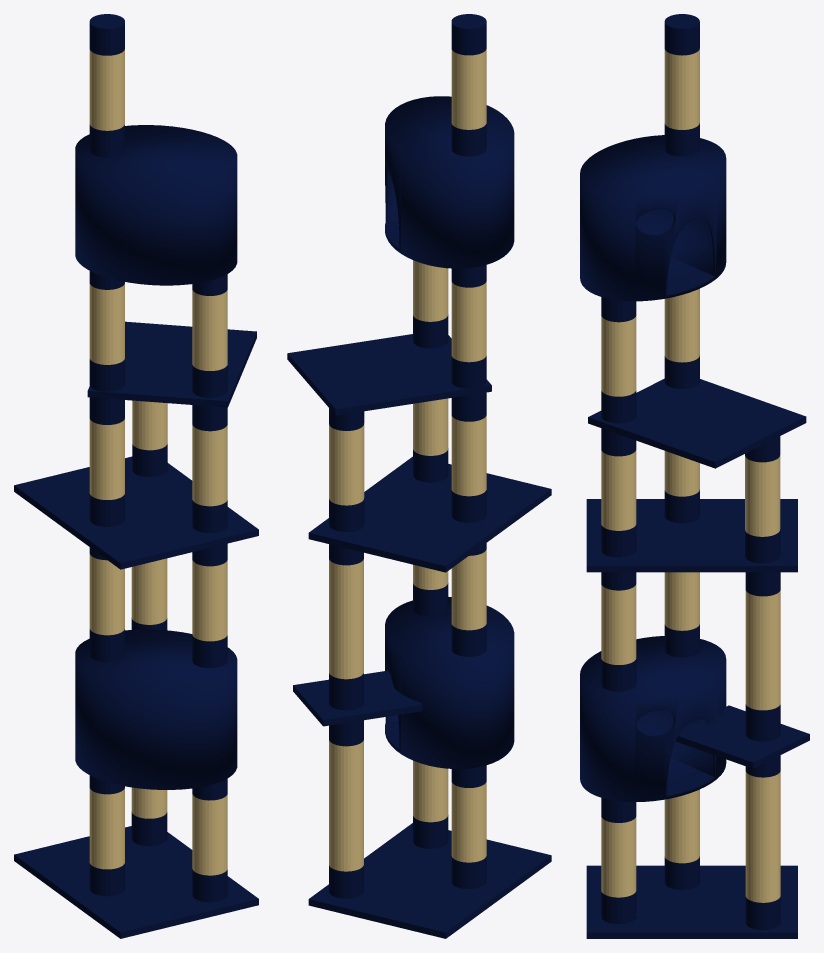
File: kratzbaum.fbx
The picture shows the model from 3 angles, left to right: view 1: azimuth 30°, elevation 25°; view 2: azimuth 150°, elevation 25°; view 3: azimuth 270°, elevation 25°; orthographic projection.
Visible parts, largest first — view 1: Cylinder.012; view 2: Cylinder.012; view 3: Cylinder.012.
Part boxes in pixels (left/top/right/bottom): Cylinder.012: left=14, top=14, right=258, bottom=938; Cylinder.012: left=287, top=14, right=551, bottom=938; Cylinder.012: left=580, top=14, right=809, bottom=938.
Bounding box in the file's own units: 65.48 × 272 × 65.23.
